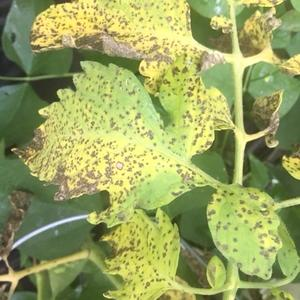Tomato leaf bacterial spot: (8, 57, 194, 224), (18, 4, 228, 111), (86, 201, 183, 298), (202, 173, 285, 283), (157, 58, 234, 161)
